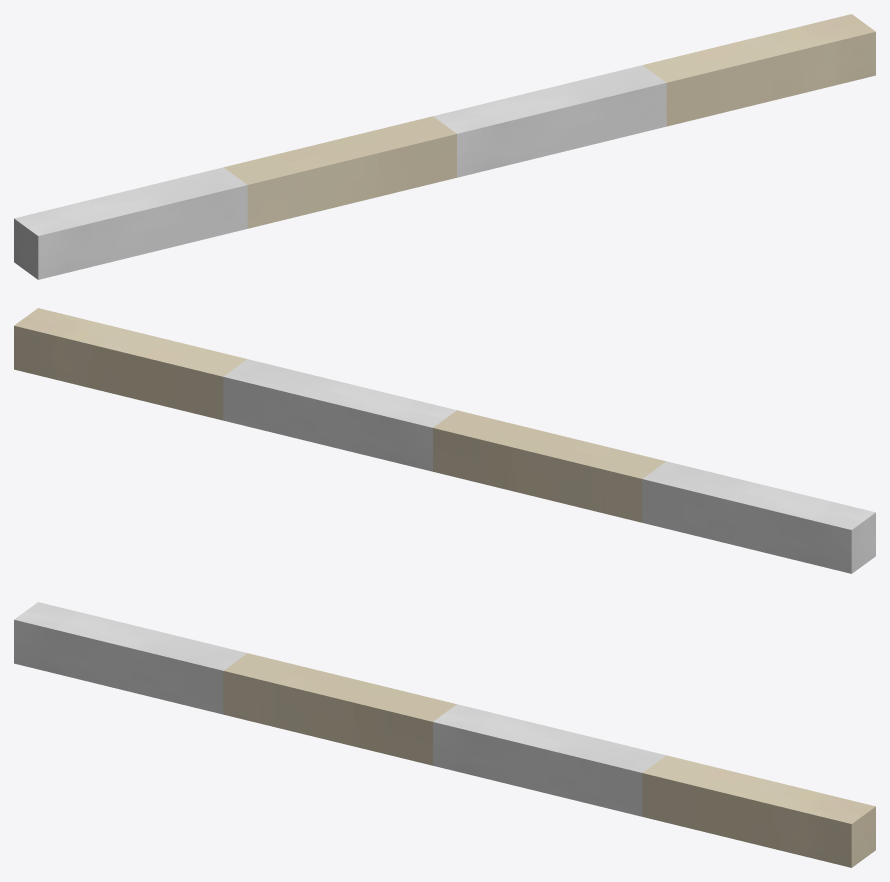
The model's file is tollbooth.barrier.glb.
3 renders of one model, top to bottom at view 1: azimuth 30°, elevation 25°; view 2: azimuth 150°, elevation 25°; view 3: azimuth 330°, elevation 25°, orthographic.
Parts seen in each view (by area): view 1: castle.tollbooth.barrier; view 2: castle.tollbooth.barrier; view 3: castle.tollbooth.barrier.
Boxes of the visible parts, x1=… form: castle.tollbooth.barrier: x1=14, y1=14, x2=875, y2=279; castle.tollbooth.barrier: x1=14, y1=308, x2=875, y2=573; castle.tollbooth.barrier: x1=14, y1=602, x2=875, y2=867.
Bounding box in the file's own units: 2 × 0.1 × 0.1.
Materials: 2 (2 with a texture image).
